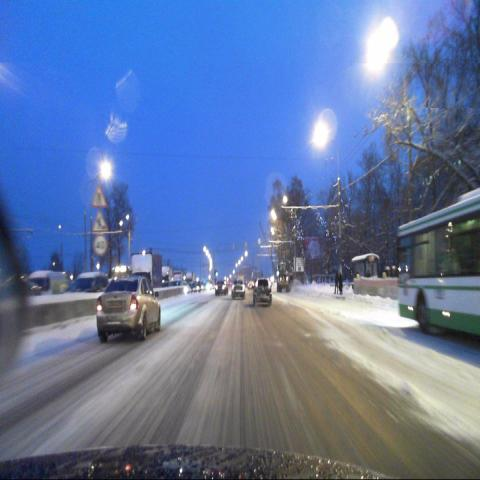1_25: (92, 209, 107, 233)
